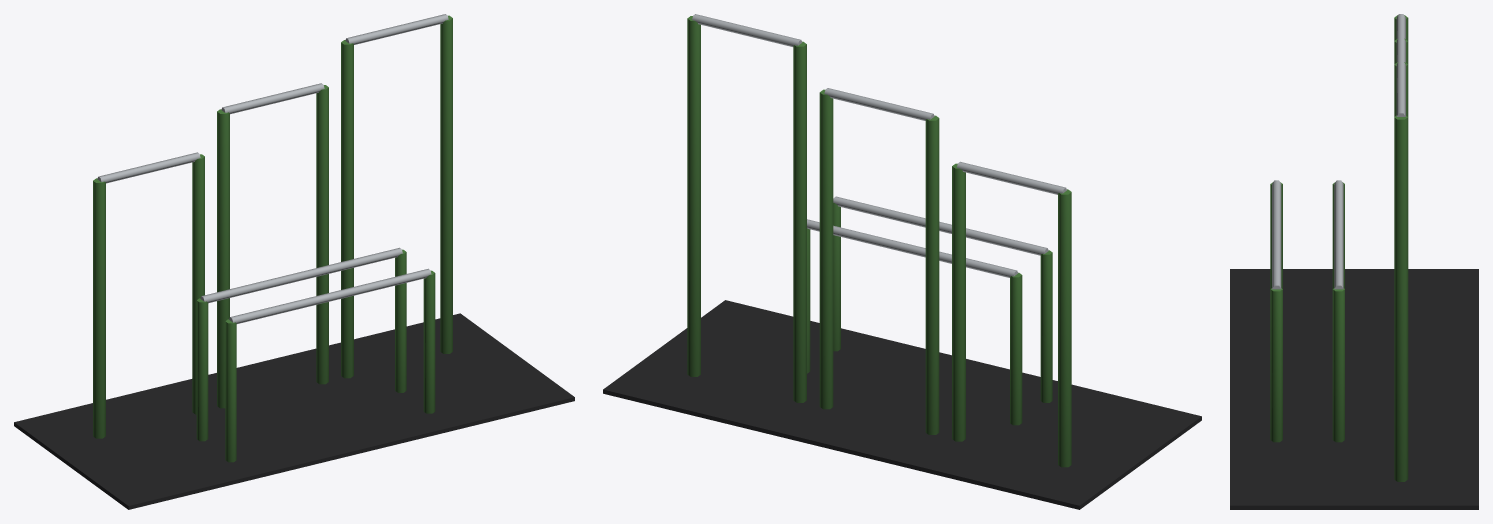
The model's file is FitnessBarsMIA.fbx.
3 renders of one model, left to right at view 1: azimuth 30°, elevation 25°; view 2: azimuth 150°, elevation 25°; view 3: azimuth 270°, elevation 25°, orthographic. The views are drawn at different scales.
Visible parts, largest first — view 1: FitnessBarsMIA; view 2: FitnessBarsMIA; view 3: FitnessBarsMIA.
Boxes of the visible parts, x1=… form: FitnessBarsMIA: x1=14, y1=14, x2=574, y2=509; FitnessBarsMIA: x1=603, y1=14, x2=1201, y2=509; FitnessBarsMIA: x1=1230, y1=14, x2=1478, y2=509.
Size of the model in its own units: 3.6 by 2.63 by 1.6.
